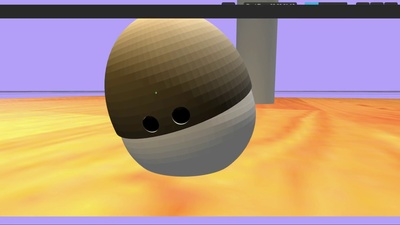mira_robot: (105, 19, 257, 177)
